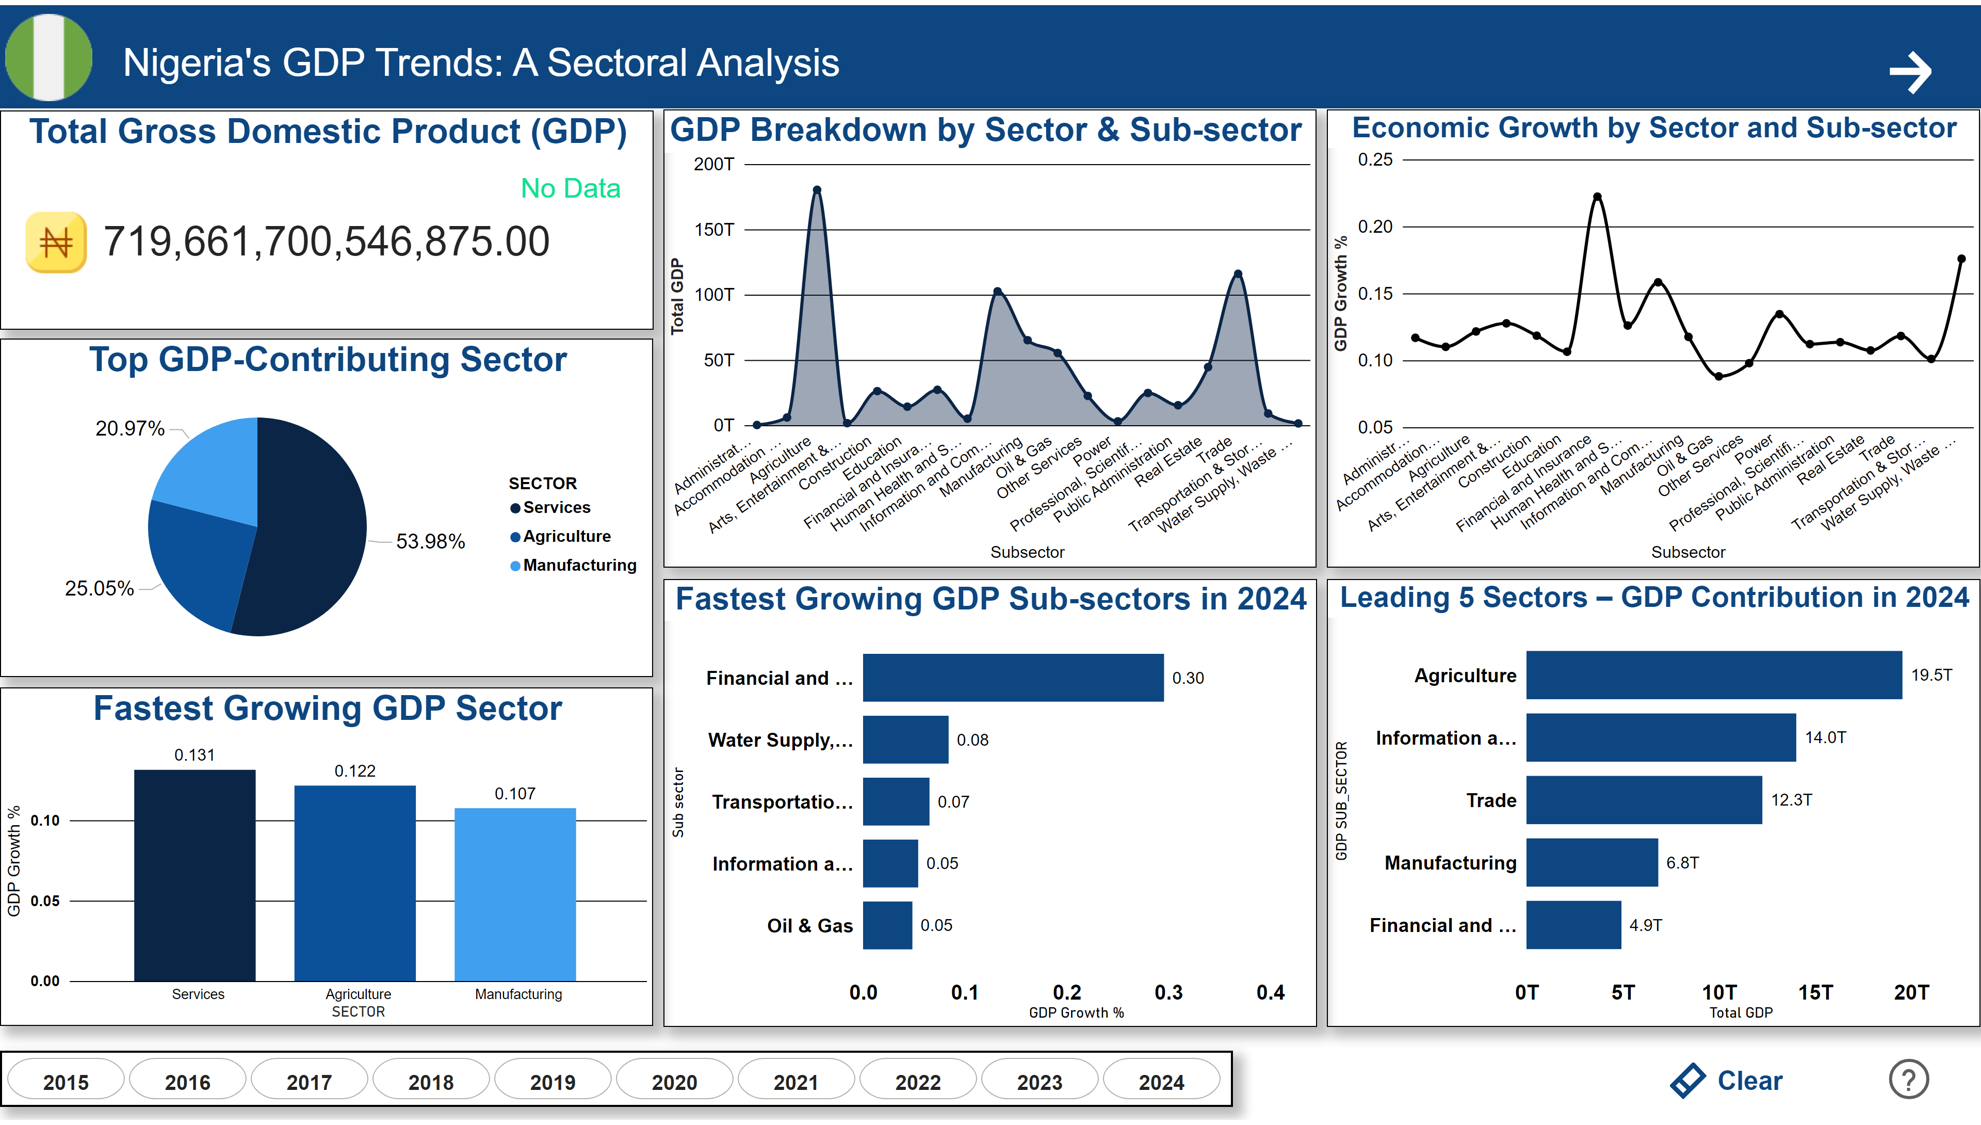

The dashboard page shown, as its layout file describes it:
{"tool":"powerbi","page":{"name":"GDP","canvas":[1920,1080],"ordinal":0},"visuals":[{"type":"image","box":[0,0,94.4,101.7],"z":0},{"type":"textbox","box":[114.4,29.1,735.4,78.1],"z":1000},{"type":"advancedSlicerVisual","fields":{"Values":["GDP_Date.Year"]},"box":[0,1013.2,1194.8,54.5],"z":2000},{"type":"actionButton","box":[1610.6,1016.8,170.7,50.8],"z":3000},{"type":"actionButton","box":[1824.8,1015,50.8,50.8],"z":4000},{"type":"card","title":"Total Gross Domestic Product (GDP)","fields":{"Values":["GDP.Total GDP"]},"box":[0,101.7,633.7,212.4],"z":5000},{"type":"image","box":[10.9,190.7,87.2,78.1],"z":6000},{"type":"card","fields":{"Values":["GDP.GDP Growth label"]},"box":[430.3,127.1,246.9,99.9],"z":7000},{"type":"pieChart","title":"Top GDP-Contributing Sector","fields":{"Y":["GDP.Total GDP"],"Category":["GDP.SECTOR"]},"box":[0,323,633,328],"z":8000},{"type":"columnChart","title":"Fastest Growing GDP Sector","fields":{"Category":["GDP.SECTOR","GDP.GDP_SUB_SECTOR"],"Y":["GDP.GDP Growth %"]},"box":[0,661,633,328],"z":9000},{"type":"areaChart","title":"GDP Breakdown by Sector &  Sub-sector","fields":{"Category":["GDP.SECTOR","GDP.GDP_SUB_SECTOR"],"Y":["GDP.Total GDP"]},"box":[643,101,633,444],"z":10000},{"type":"lineChart","title":"Economic Growth by Sector and Sub-sector","fields":{"Category":["GDP.SECTOR","GDP.GDP_SUB_SECTOR"],"Y":["GDP.GDP Growth %"]},"box":[1286,101,633,444],"z":11000},{"type":"clusteredBarChart","title":"Fastest Growing GDP Sub-sectors in 2024","fields":{"Category":["GDP.GDP_SUB_SECTOR"],"Y":["GDP.GDP Growth %"]},"box":[642.8,555.6,633.7,434],"z":12000},{"type":"clusteredBarChart","title":"Leading 5 Sectors – GDP Contribution in 2024","fields":{"Category":["GDP.GDP_SUB_SECTOR"],"Y":["GDP.Total GDP"]},"box":[1285.5,555.6,633.7,434],"z":13000},{"type":"actionButton","box":[1824.8,39.9,50.8,50.8],"z":15000}]}

Visuals, with their boxes in screenshot pixels (x1, y1, x2, y2), scaled from the page's 1920x1080 canvas onto the 1981x1125 screenshot:
image: bbox=[0, 0, 97, 106]
textbox: bbox=[118, 30, 877, 112]
advancedSlicerVisual - GDP_Date.Year: bbox=[0, 1055, 1233, 1112]
actionButton: bbox=[1662, 1059, 1838, 1112]
actionButton: bbox=[1883, 1057, 1935, 1110]
"Total Gross Domestic Product (GDP)" card: bbox=[0, 106, 654, 327]
image: bbox=[11, 199, 101, 280]
card - GDP.GDP Growth label: bbox=[444, 132, 699, 236]
"Top GDP-Contributing Sector" pieChart: bbox=[0, 336, 653, 678]
"Fastest Growing GDP Sector" columnChart: bbox=[0, 689, 653, 1030]
"GDP Breakdown by Sector &  Sub-sector" areaChart: bbox=[663, 105, 1317, 568]
"Economic Growth by Sector and Sub-sector" lineChart: bbox=[1327, 105, 1980, 568]
"Fastest Growing GDP Sub-sectors in 2024" clusteredBarChart: bbox=[663, 579, 1317, 1031]
"Leading 5 Sectors – GDP Contribution in 2024" clusteredBarChart: bbox=[1326, 579, 1980, 1031]
actionButton: bbox=[1883, 42, 1935, 94]
